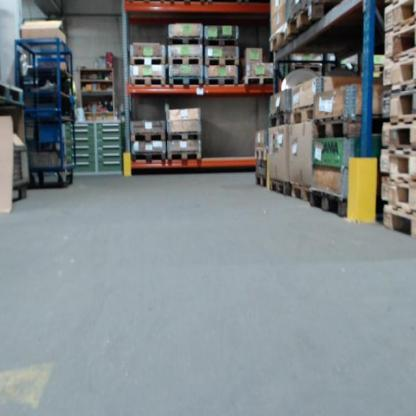pallet: (288, 1, 333, 42), (381, 52, 415, 87), (309, 190, 348, 219), (313, 116, 364, 138), (379, 87, 413, 118), (380, 177, 415, 203), (383, 205, 414, 234), (382, 119, 413, 148), (382, 23, 414, 49), (381, 149, 413, 174), (290, 104, 316, 126), (270, 23, 287, 56), (384, 3, 415, 21), (203, 34, 239, 48), (129, 74, 167, 87), (166, 34, 203, 47), (0, 83, 24, 103), (168, 129, 203, 142), (291, 185, 316, 203), (128, 56, 167, 67), (166, 55, 204, 66), (204, 56, 240, 67), (168, 75, 204, 86), (130, 131, 166, 142), (203, 75, 238, 86), (132, 151, 167, 162), (168, 150, 202, 161), (268, 111, 290, 128), (241, 75, 274, 86), (271, 181, 293, 197), (252, 146, 269, 163), (254, 174, 268, 188)
stillage: (11, 146, 29, 202)
